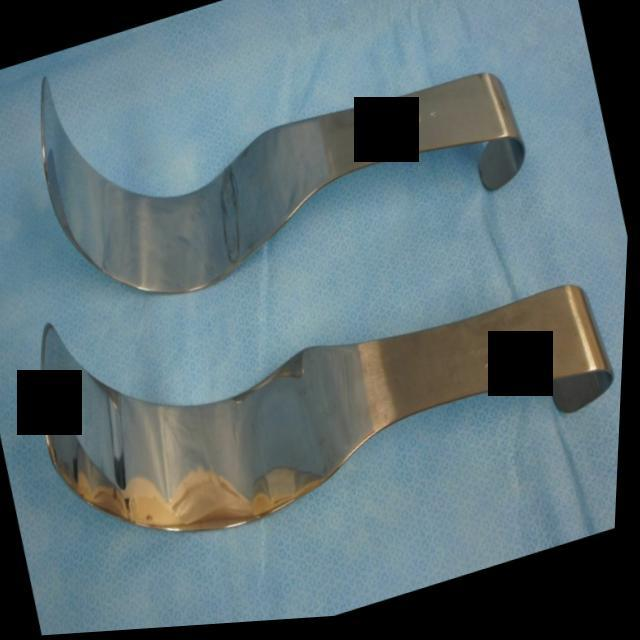Deaver Retractor: (13, 0, 554, 343)
